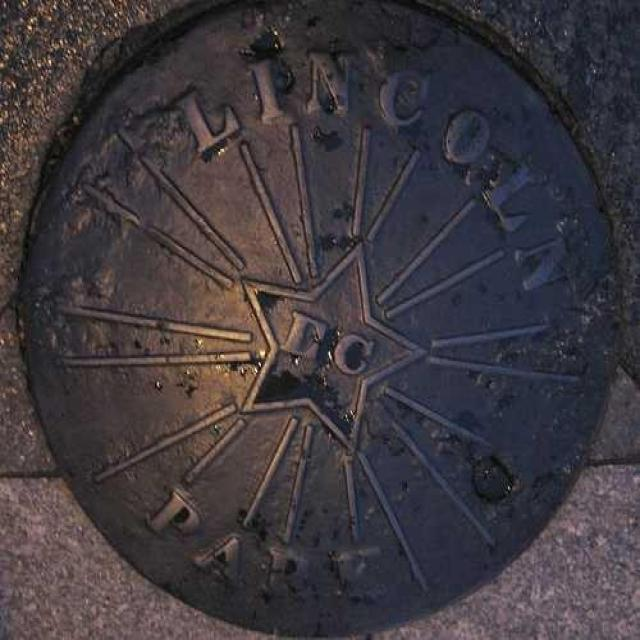manhole: (20, 1, 611, 634)
